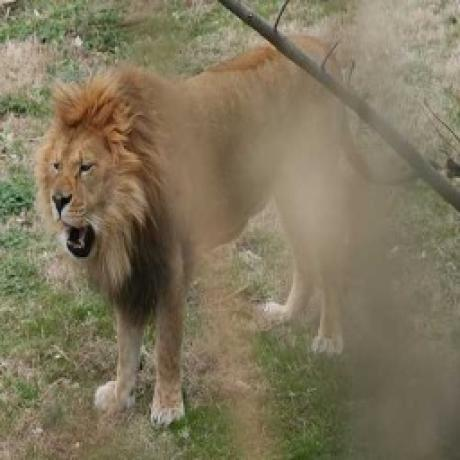Lion: (37, 37, 368, 427)
